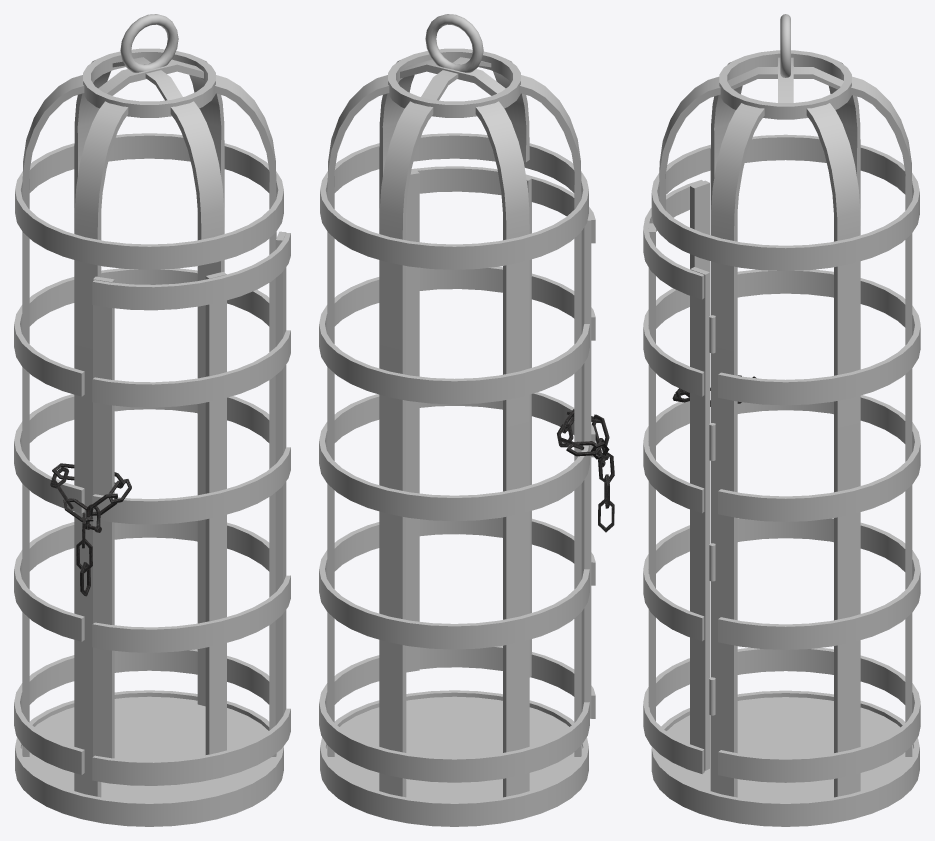
File: gibbet_01.fbx
3 renders of one model, left to right at view 1: azimuth 30°, elevation 25°; view 2: azimuth 150°, elevation 25°; view 3: azimuth 270°, elevation 25°, orthographic.
Parts seen in each view (by area): view 1: gibbet_01, gibbet_01_door, gibbet_01_chainLock; view 2: gibbet_01, gibbet_01_door, gibbet_01_chainLock; view 3: gibbet_01, gibbet_01_door.
Part boxes in pixels (x1,y1,x2,y2): gibbet_01: (14,14,283,826); gibbet_01_door: (92,231,290,785); gibbet_01_chainLock: (50,463,131,596); gibbet_01: (319,14,589,826); gibbet_01_door: (406,166,595,718); gibbet_01_chainLock: (557,409,614,532); gibbet_01: (651,14,920,826); gibbet_01_door: (643,180,715,773).
Bounding box in the file's own units: 86.39 × 260 × 86.76.
